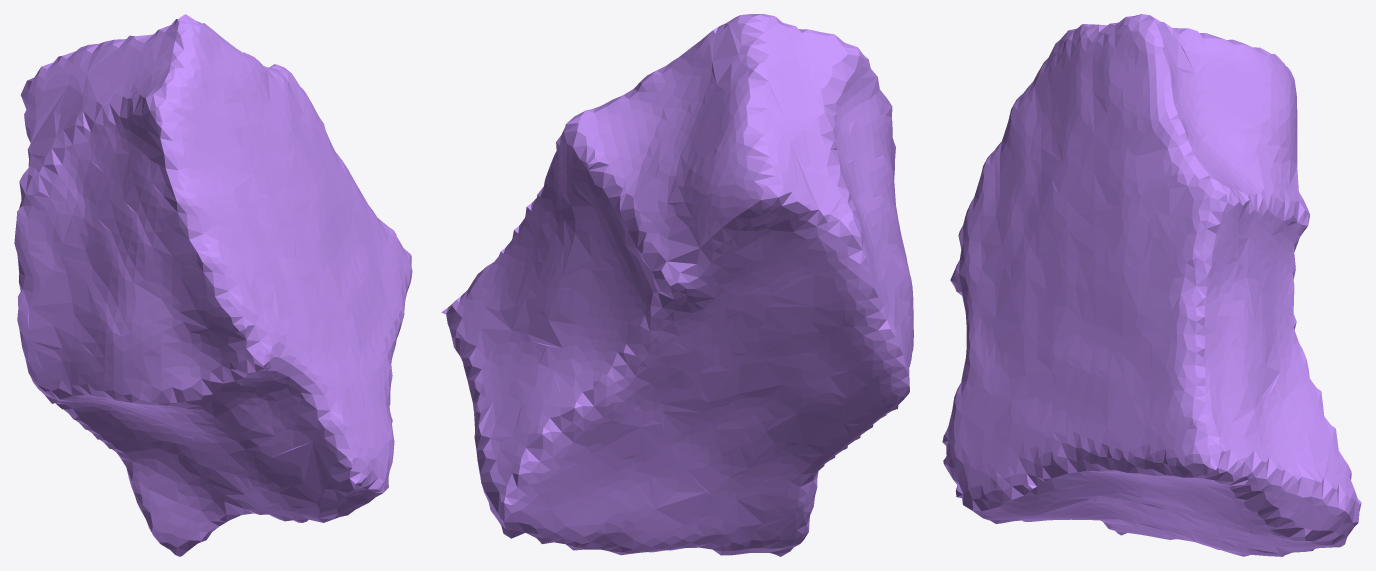
Rendered from Model_39_RH__Area_8a_of_cortex__ventral_part_(A8aV).obj.
3 views of the same model, side by side, from view 1: azimuth 30°, elevation 25°; view 2: azimuth 150°, elevation 25°; view 3: azimuth 270°, elevation 25° (orthographic). The views are drawn at different scales.
Bounding box in the file's own units: 3.45 × 4.16 × 3.
